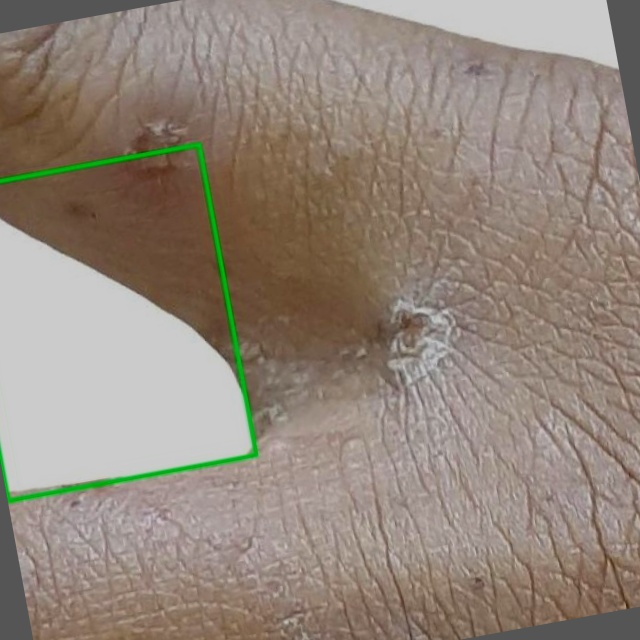Scabies: (0, 144, 256, 500)
